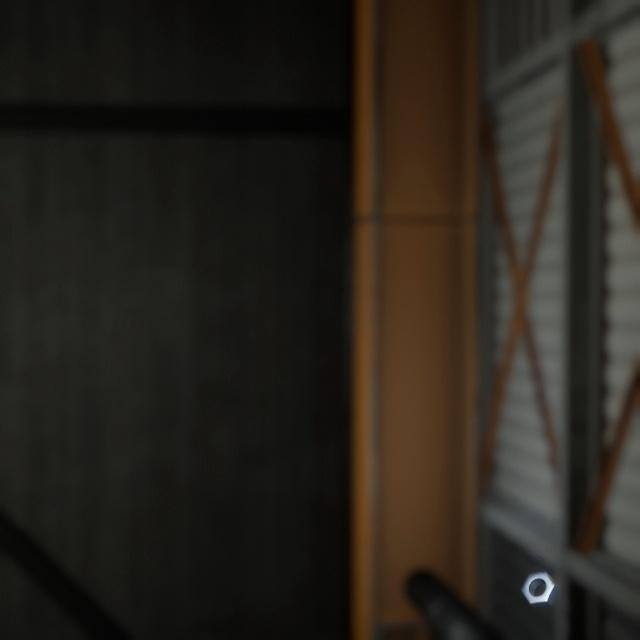nut: (516, 544, 563, 589)
